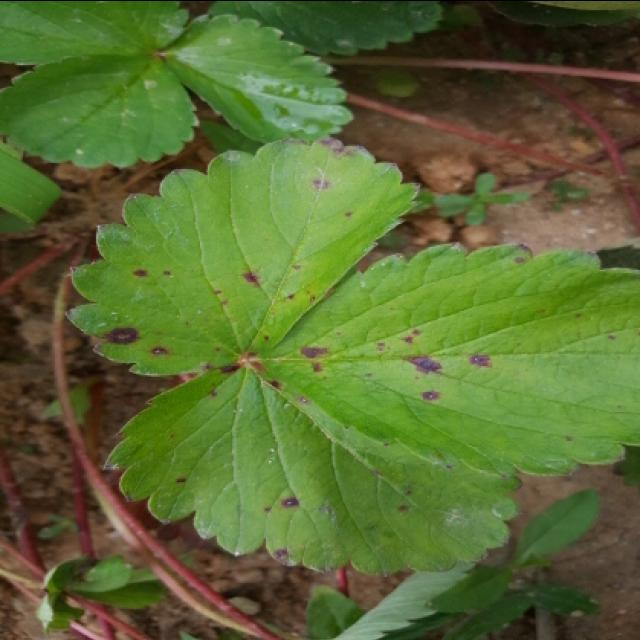Leaf Spot: (99, 362, 525, 578), (254, 240, 638, 478), (64, 133, 421, 377)
